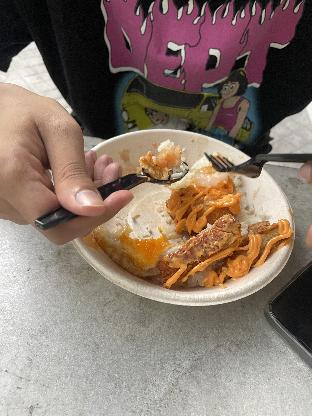Others: (68, 121, 300, 314), (18, 129, 200, 243), (205, 137, 312, 184)
